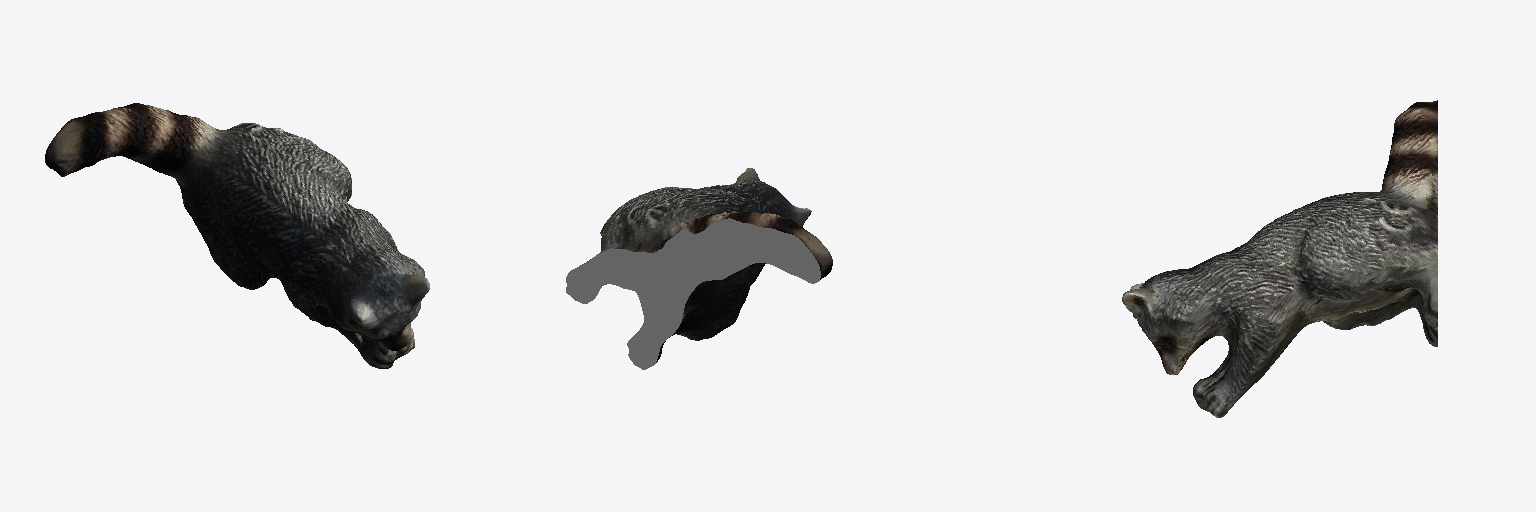
The picture shows the model from 3 angles: view 1: azimuth 30°, elevation 25°; view 2: azimuth 150°, elevation 25°; view 3: azimuth 270°, elevation 25°; orthographic projection.
Bounding box in the file's own units: 13.89 × 11 × 14.33.
2 materials, 2 textured.